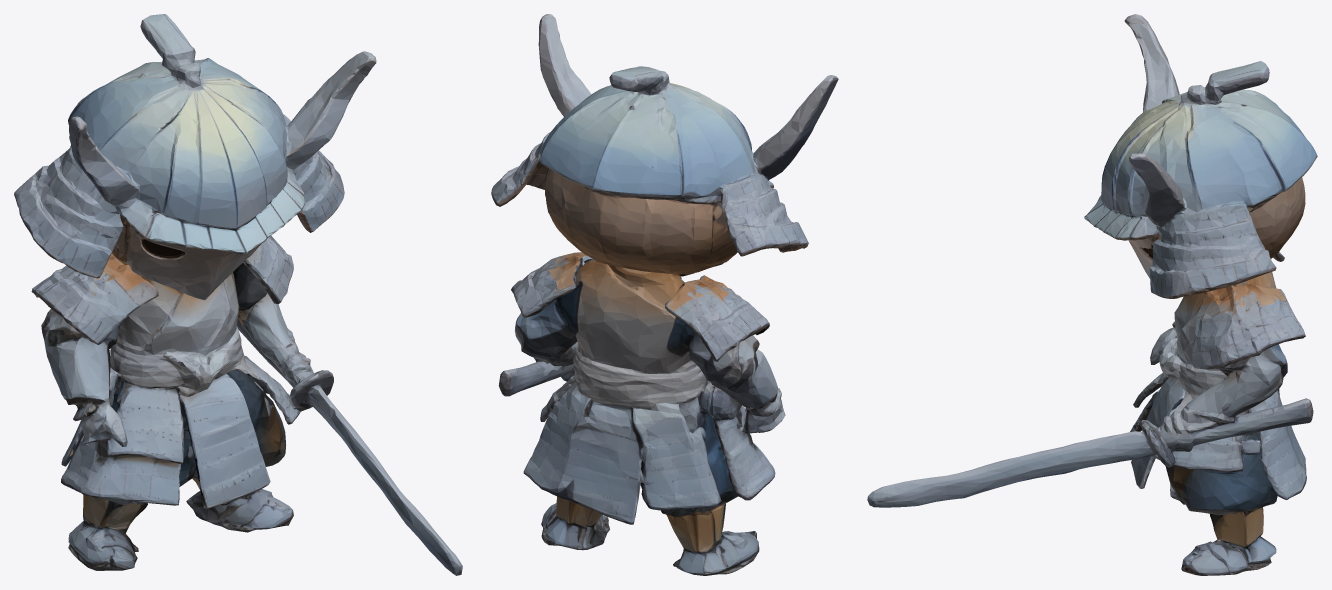
File: Player.A.glb
3 renders of one model, left to right at view 1: azimuth 30°, elevation 25°; view 2: azimuth 150°, elevation 25°; view 3: azimuth 270°, elevation 25°, orthographic. The views are drawn at different scales.
Visible parts, largest first — view 1: textured_mesh.obj; view 2: textured_mesh.obj; view 3: textured_mesh.obj.
Boxes of the visible parts, <box> form: textured_mesh.obj: <box>14,14,462,575</box>; textured_mesh.obj: <box>491,14,838,575</box>; textured_mesh.obj: <box>867,14,1317,575</box>.
Size of the model in its own units: 1.26 by 1.99 by 1.73.
Materials: 1 (1 with a texture image).
